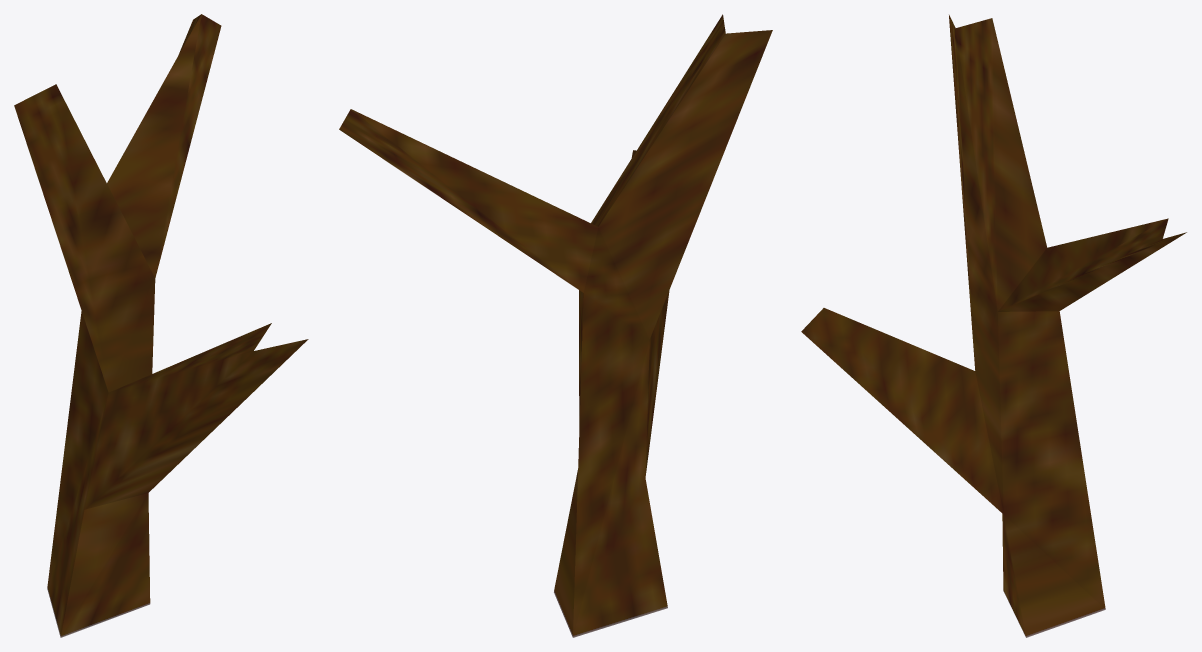
File: treebranch08.glb
3 views of the same model, side by side, from view 1: azimuth 30°, elevation 25°; view 2: azimuth 150°, elevation 25°; view 3: azimuth 270°, elevation 25° (orthographic). The views are drawn at different scales.
Parts seen in each view (by area): view 1: treebranch08; view 2: treebranch08; view 3: treebranch08.
Part boxes in pixels (x1,y1,x2,y2): treebranch08: (14, 14, 308, 637); treebranch08: (339, 14, 772, 637); treebranch08: (801, 15, 1186, 637).
Size of the model in its own units: 377 by 652 by 416.
1 material, 1 textured.
